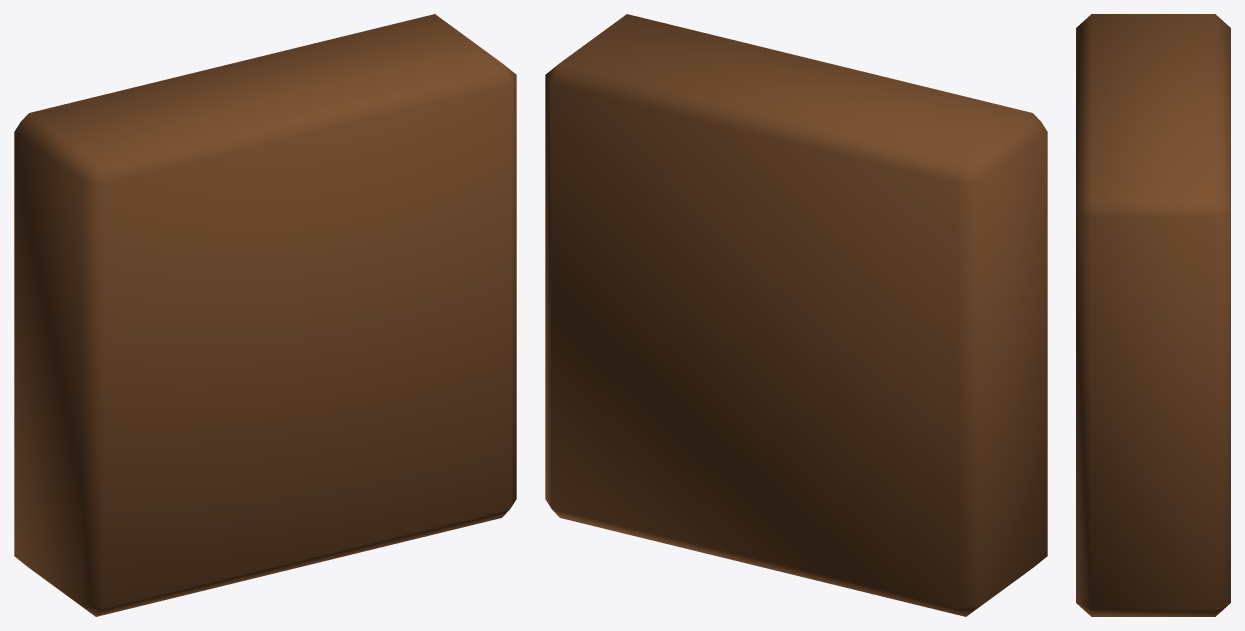
File: button.bg.002.glb
3 views of the same model, side by side, from view 1: azimuth 30°, elevation 25°; view 2: azimuth 150°, elevation 25°; view 3: azimuth 270°, elevation 25° (orthographic). The views are drawn at different scales.
Parts seen in each view (by area): view 1: button.bg.002; view 2: button.bg.002; view 3: button.bg.002.
Boxes of the visible parts, x1=… form: button.bg.002: x1=14, y1=14, x2=516, y2=616; button.bg.002: x1=545, y1=14, x2=1047, y2=616; button.bg.002: x1=1076, y1=14, x2=1230, y2=616.
Size of the model in its own units: 1.5 by 1.5 by 0.5.
